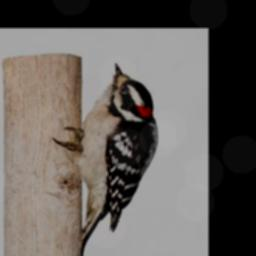Woodpecker: (53, 62, 159, 232)
